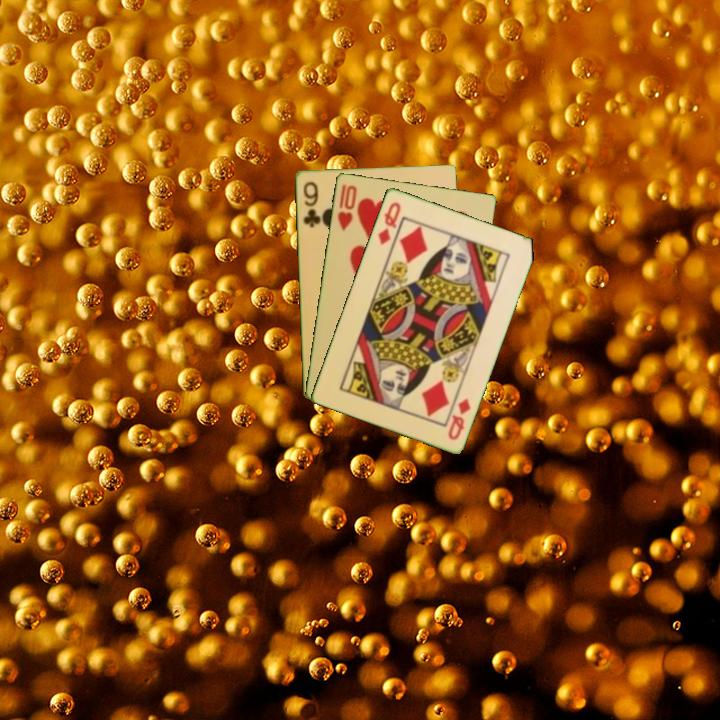10h: (334, 180, 359, 233)
9c: (299, 178, 322, 230)
Qd: (374, 198, 404, 247), (444, 394, 474, 443)
